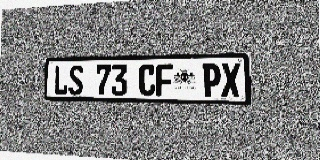3: (111, 64, 127, 96)
7: (95, 65, 111, 96)
C: (139, 64, 155, 96)
F: (156, 64, 173, 96)
L: (54, 65, 68, 95)
P: (202, 63, 221, 97)
S: (68, 65, 84, 95)
X: (221, 63, 240, 97)
